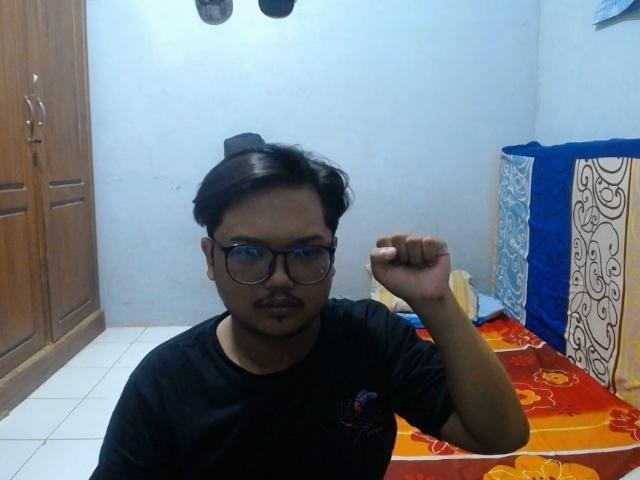Grab: (366, 229, 457, 311)
